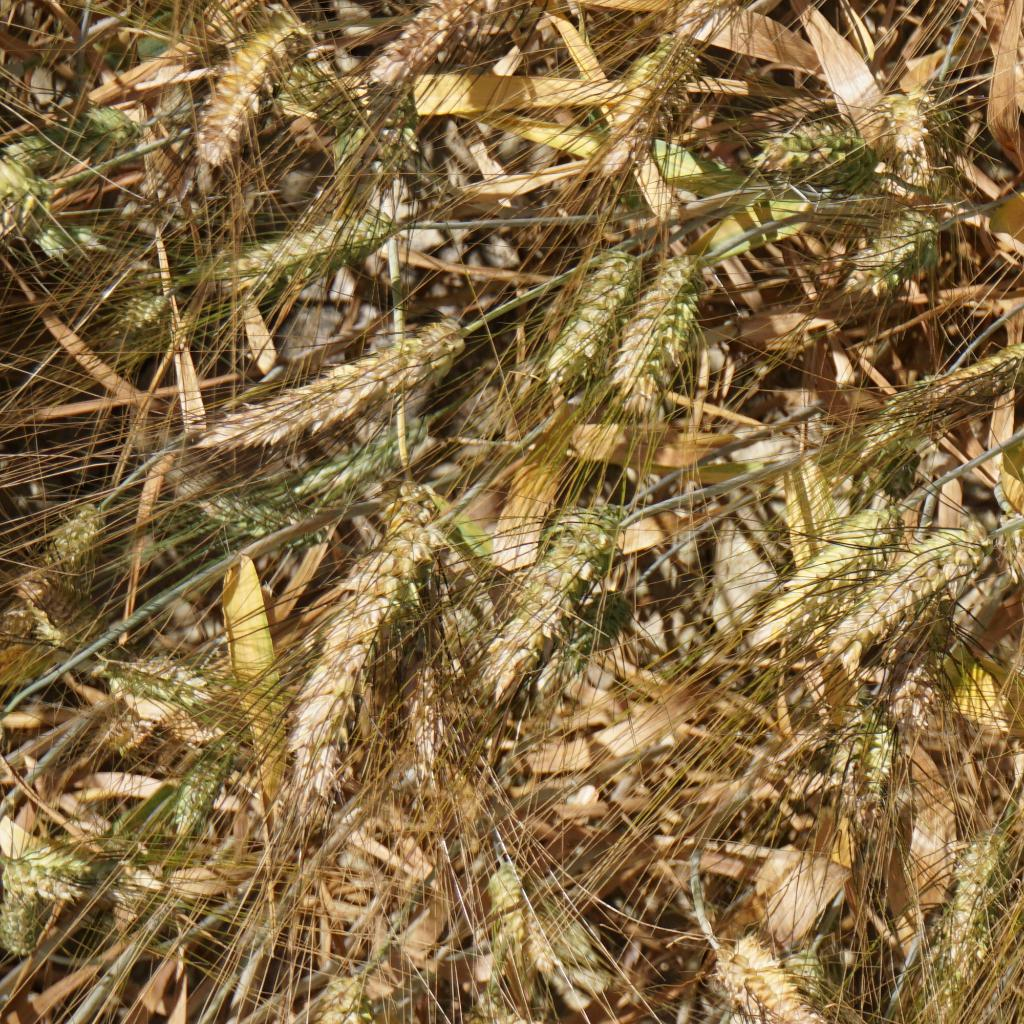0-0: (186, 311, 479, 465), (305, 509, 475, 761), (363, 490, 472, 795), (731, 495, 914, 673), (813, 523, 1012, 686), (494, 496, 636, 705), (828, 335, 1024, 480), (598, 243, 732, 427), (497, 488, 641, 648), (524, 245, 652, 403), (587, 31, 691, 184), (336, 59, 433, 210), (505, 870, 614, 998), (821, 700, 906, 864), (186, 17, 287, 155), (381, 0, 523, 94), (212, 208, 393, 281), (712, 925, 836, 1024), (466, 839, 548, 984), (860, 357, 967, 464), (919, 811, 994, 963), (19, 565, 128, 668), (204, 486, 334, 572), (297, 417, 427, 502), (4, 100, 157, 161), (754, 922, 845, 1024), (884, 80, 961, 197), (5, 809, 114, 890), (90, 637, 214, 707), (760, 110, 876, 181), (287, 65, 376, 149), (852, 208, 945, 287), (0, 874, 72, 970), (691, 0, 823, 49), (161, 754, 248, 828), (307, 952, 396, 1024), (87, 696, 181, 761), (468, 0, 580, 53), (43, 498, 114, 577), (991, 486, 1024, 629), (116, 253, 175, 326), (893, 661, 945, 726), (35, 220, 100, 258)
